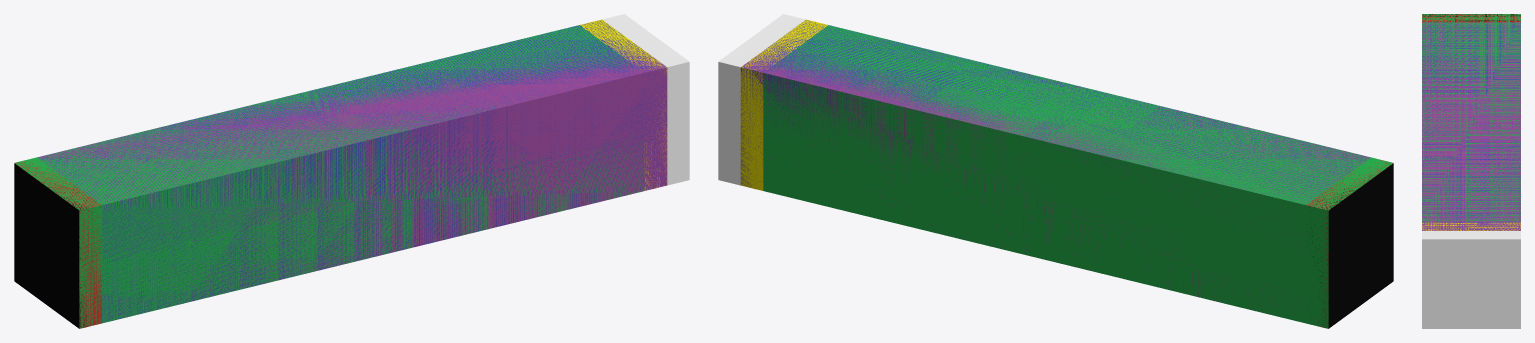
Rendered from simpleboneb.obj.
The picture shows the model from 3 angles, left to right: view 1: azimuth 30°, elevation 25°; view 2: azimuth 150°, elevation 25°; view 3: azimuth 270°, elevation 25°; orthographic projection. The views are drawn at different scales.
Parts seen in each view (by area): view 1: Object.1, Object.7, Object.4, Object.6, Object.5, Object.3, Object.2; view 2: Object.1, Object.7, Object.4, Object.6, Object.5, Object.2, Object.3; view 3: Object.7, Object.1, Object.5, Object.4, Object.3, Object.2, Object.6.
Part boxes in pixels (left/top/right/bottom): Object.1: left=15, top=25, right=644, bottom=328; Object.7: left=37, top=25, right=667, bottom=322; Object.4: left=38, top=20, right=667, bottom=322; Object.6: left=14, top=163, right=90, bottom=328; Object.5: left=602, top=14, right=689, bottom=185; Object.3: left=15, top=160, right=101, bottom=328; Object.2: left=580, top=19, right=667, bottom=190; Object.1: left=763, top=25, right=1392, bottom=328; Object.7: left=740, top=27, right=1370, bottom=315; Object.4: left=740, top=20, right=1369, bottom=283; Object.6: left=1309, top=163, right=1393, bottom=328; Object.5: left=718, top=14, right=805, bottom=185; Object.2: left=740, top=19, right=827, bottom=190; Object.3: left=1307, top=158, right=1392, bottom=328; Object.7: left=1422, top=22, right=1520, bottom=230; Object.1: left=1422, top=14, right=1520, bottom=222; Object.5: left=1422, top=231, right=1520, bottom=328; Object.4: left=1422, top=22, right=1520, bottom=230; Object.3: left=1422, top=14, right=1520, bottom=22; Object.2: left=1422, top=222, right=1520, bottom=230; Object.6: left=1423, top=14, right=1520, bottom=21.
Bounding box in the file's own units: 216 × 40 × 40.
